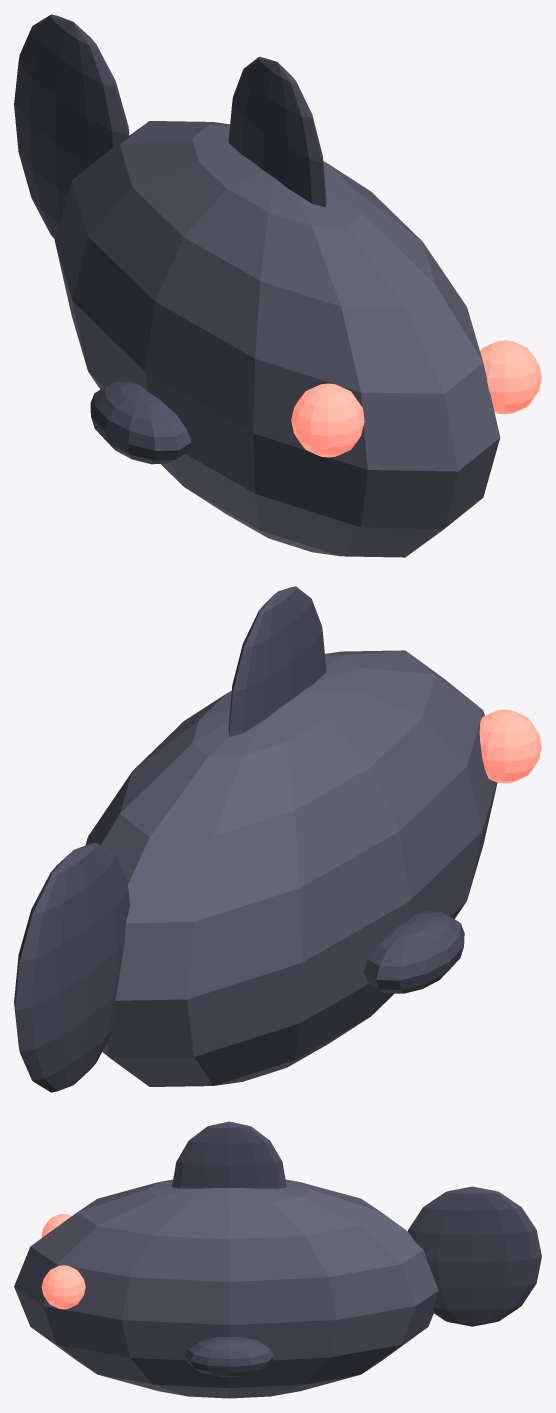
The model's file is creature_fish_dark.glb.
3 renders of one model, top to bottom at view 1: azimuth 30°, elevation 25°; view 2: azimuth 150°, elevation 25°; view 3: azimuth 270°, elevation 25°, orthographic. The views are drawn at different scales.
Visible parts, largest first — view 1: creature_fish_dark; view 2: creature_fish_dark; view 3: creature_fish_dark.
Part boxes in pixels (box(x1,y1,x2,y2)): creature_fish_dark: box(14, 14, 541, 557); creature_fish_dark: box(14, 586, 541, 1092); creature_fish_dark: box(14, 1121, 541, 1398).
Size of the model in its own units: 0.7963 by 1 by 1.77.
